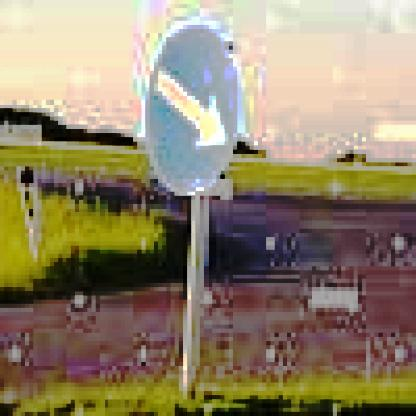Keep right: (136, 16, 246, 201)
